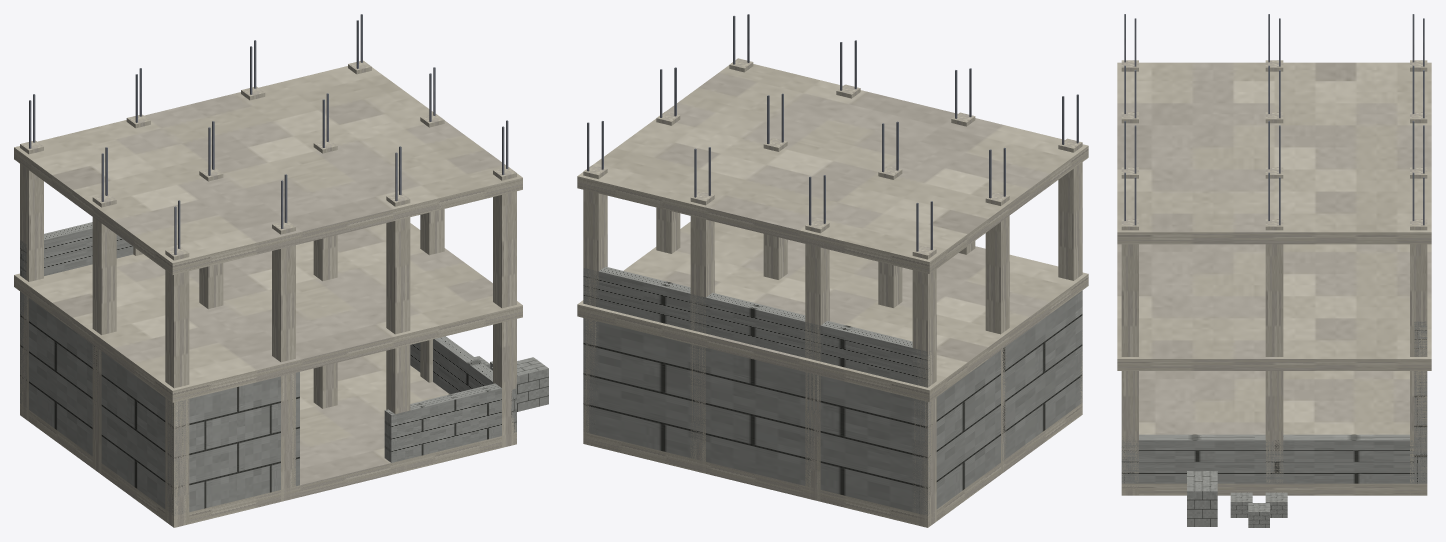
Rendered from unfinished-cream.glb.
3 renders of one model, left to right at view 1: azimuth 30°, elevation 25°; view 2: azimuth 150°, elevation 25°; view 3: azimuth 270°, elevation 25°, orthographic.
Parts seen in each view (by area): view 1: unfinished-cream; view 2: unfinished-cream; view 3: unfinished-cream.
Part boxes in pixels (<box>): unfinished-cream: <box>14,14,548,527</box>; unfinished-cream: <box>577,14,1088,527</box>; unfinished-cream: <box>1117,14,1431,527</box>.
Bounding box in the file's own units: 10.85 × 8 × 7.2.
1 material, 1 textured.
